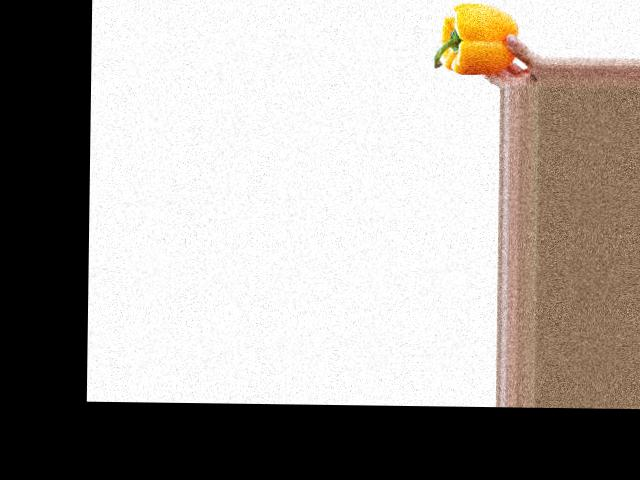bell_pepper: (429, 1, 520, 75)
